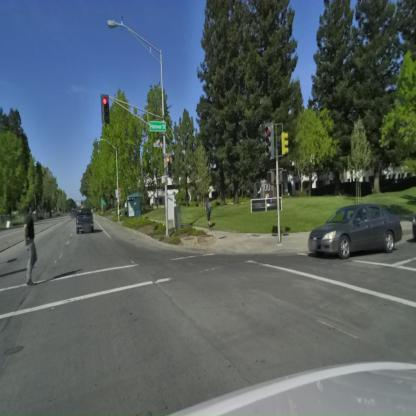car: (308, 206, 402, 260), (76, 209, 94, 233)
person: (18, 204, 40, 290), (204, 197, 212, 226)
sign: (146, 117, 170, 133)
traffic light: (262, 120, 277, 164), (102, 94, 110, 124), (280, 131, 290, 155)
